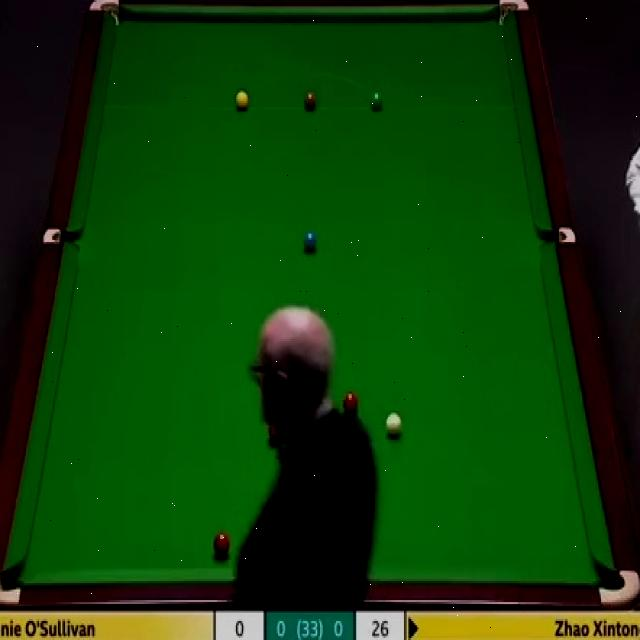blue-ball: (302, 229, 316, 253)
brown-ball: (303, 90, 316, 112)
green-ball: (369, 90, 383, 111)
red-ball: (213, 531, 230, 559), (342, 391, 359, 416), (268, 423, 284, 447)
white-ball: (385, 411, 403, 438)
yellow-ball: (234, 88, 248, 110)
